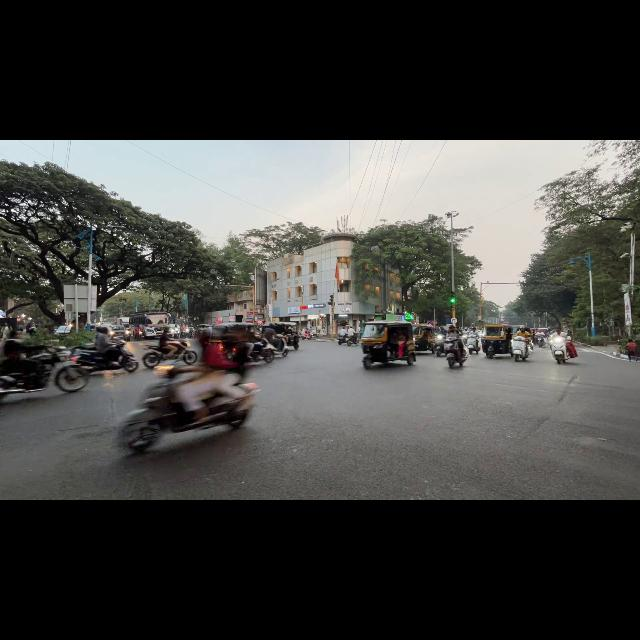bus: (129, 311, 169, 337)
car: (108, 325, 131, 340), (54, 326, 72, 337)
motorcycle: (118, 366, 259, 451), (0, 347, 88, 398), (72, 341, 138, 372), (142, 341, 197, 368), (444, 337, 467, 367), (246, 340, 276, 363), (550, 336, 570, 363), (512, 337, 531, 361), (266, 339, 288, 356), (468, 334, 480, 353), (436, 334, 444, 356), (301, 329, 312, 339), (347, 336, 358, 346), (535, 336, 544, 347), (134, 329, 143, 340), (337, 336, 347, 344), (187, 327, 194, 338)
